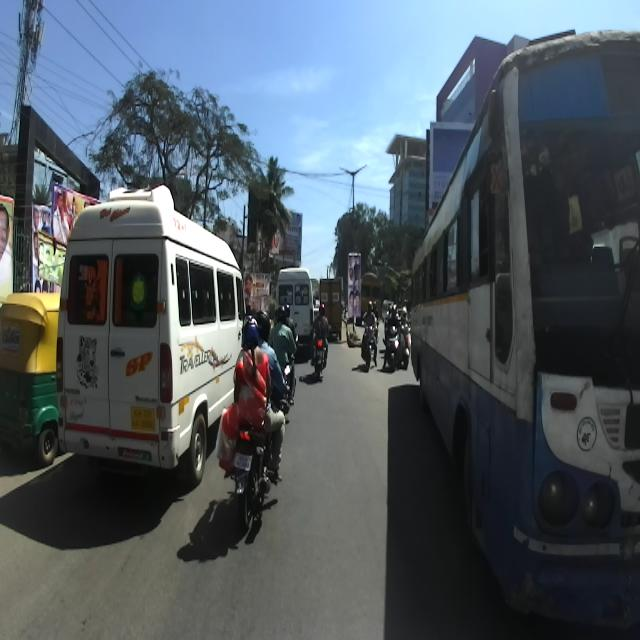bus ahead at: (55, 178, 218, 491)
motorcycle ahead at: (224, 403, 289, 536)
